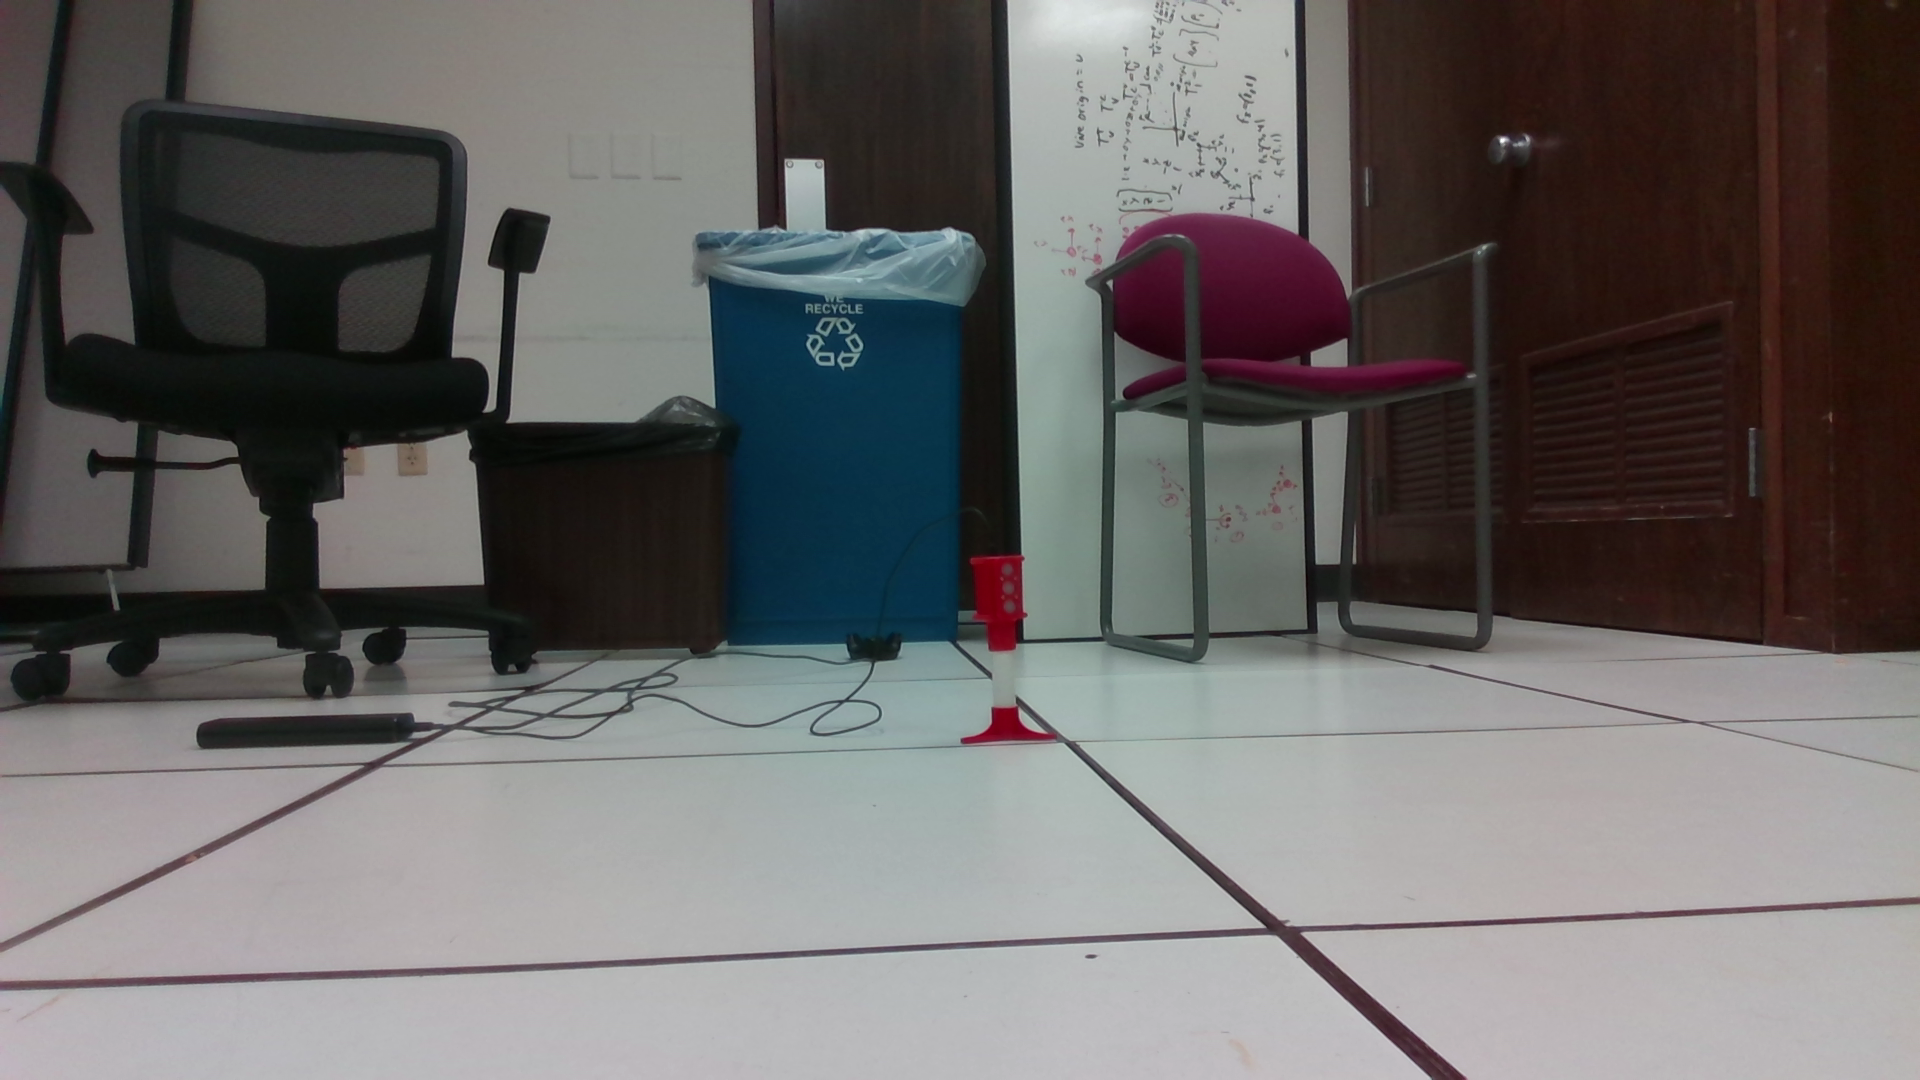stoplight: (968, 551, 1030, 647)
